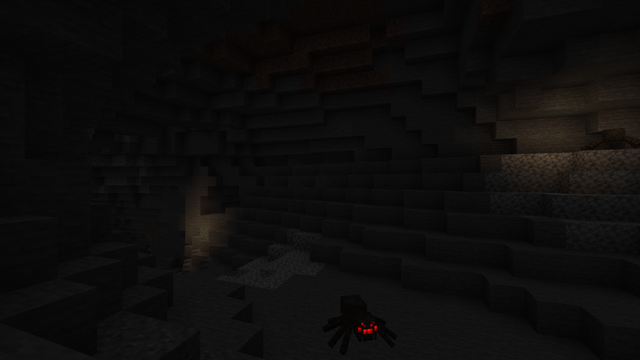araignees: (329, 293, 385, 358), (583, 126, 635, 150)
